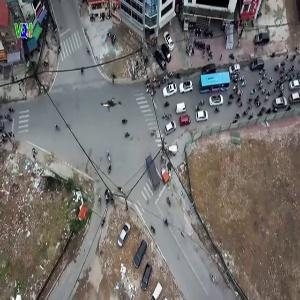drone: (83, 81, 147, 145)
